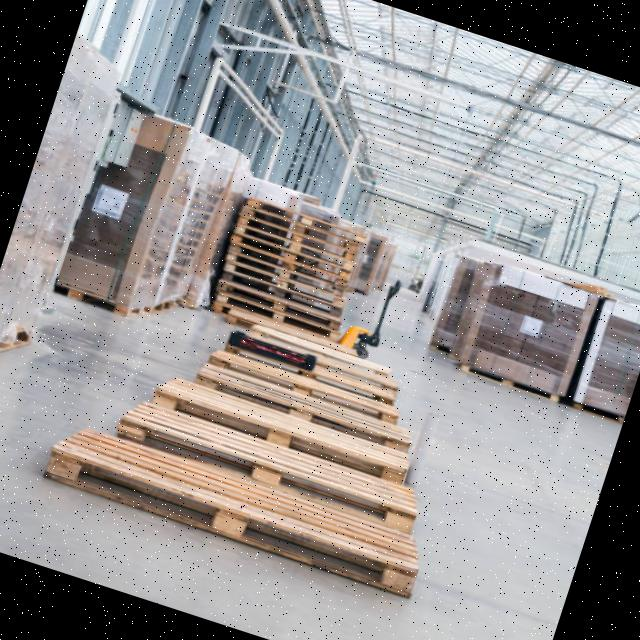Wooden-Pallets: (37, 421, 417, 598), (119, 388, 425, 532), (153, 360, 426, 492), (210, 252, 358, 314), (235, 188, 373, 248), (212, 277, 347, 335), (230, 218, 361, 276)
